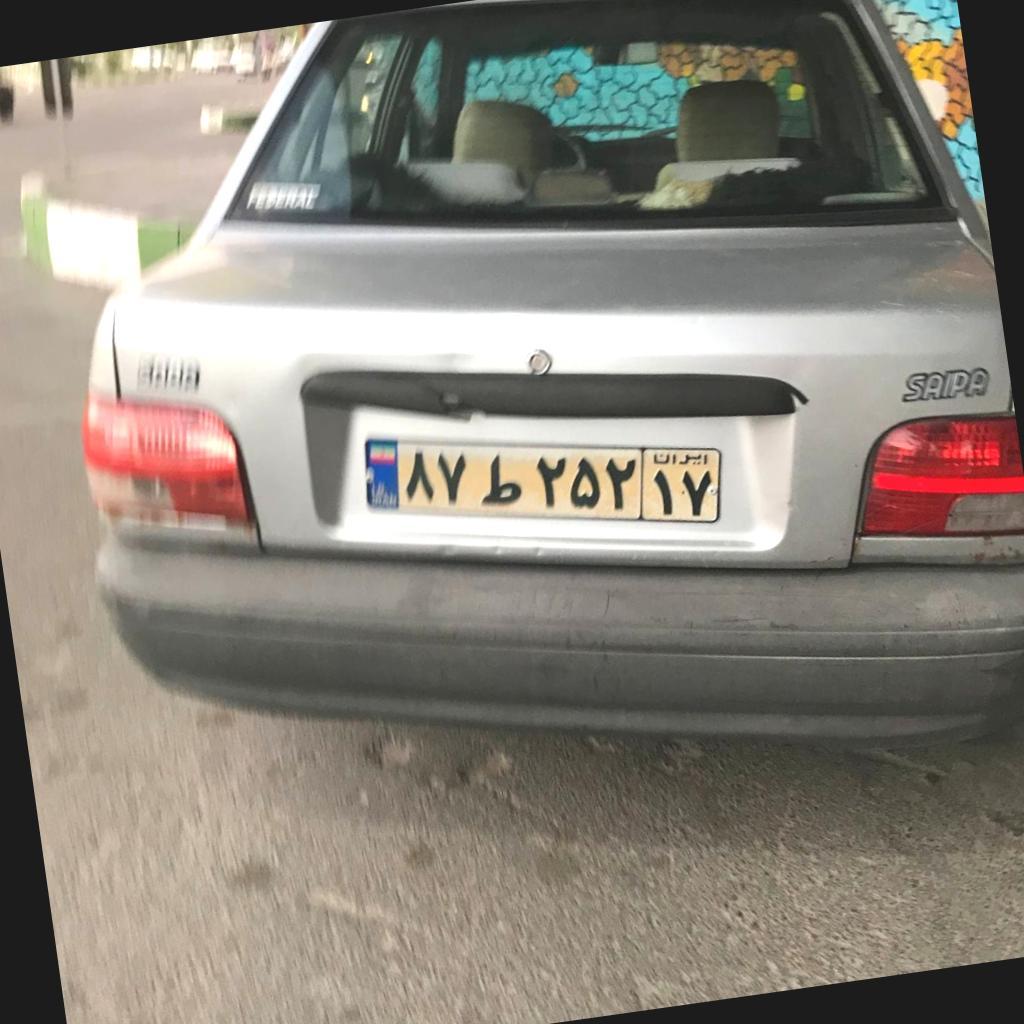Plates: (366, 440, 720, 522)
